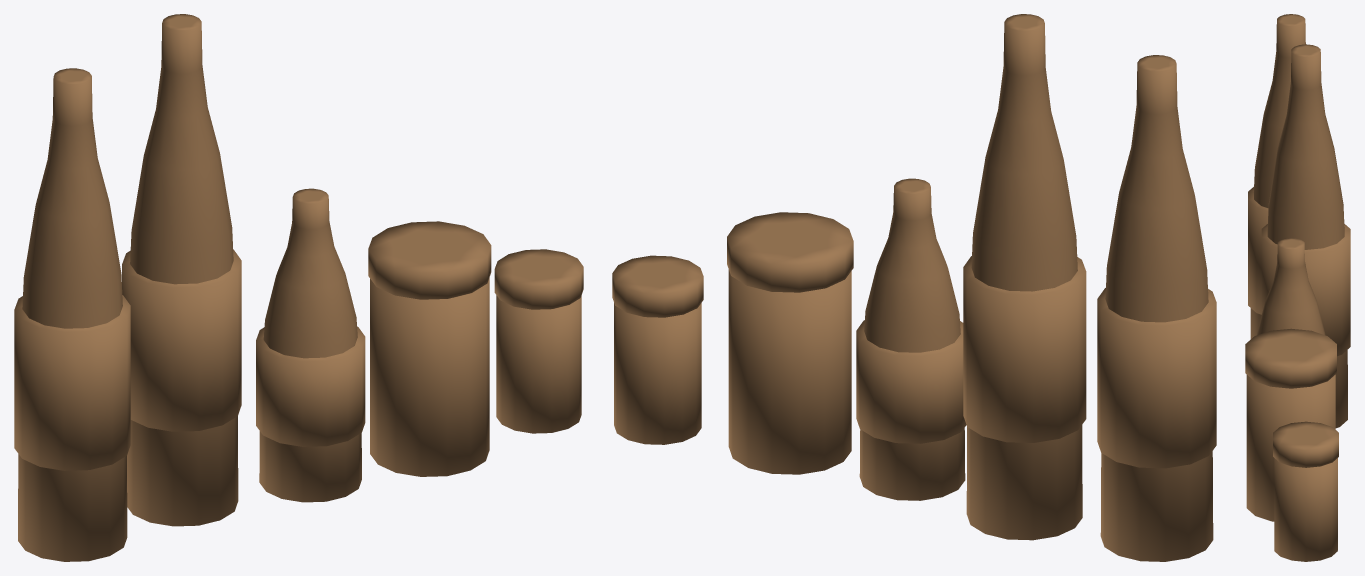
The model's file is ChaiNuocMam_Lo.glb.
3 views of the same model, side by side, from view 1: azimuth 30°, elevation 25°; view 2: azimuth 150°, elevation 25°; view 3: azimuth 270°, elevation 25° (orthographic). The views are drawn at different scales.
Visible parts, largest first — view 1: ChaiNuocMam_Lo; view 2: ChaiNuocMam_Lo; view 3: ChaiNuocMam_Lo.
Part boxes in pixels (<box>): ChaiNuocMam_Lo: <box>14,14,583,561</box>; ChaiNuocMam_Lo: <box>612,14,1216,561</box>; ChaiNuocMam_Lo: <box>1245,14,1350,561</box>.
Bounding box in the file's own units: 0.3324 × 0.27 × 0.0705.
